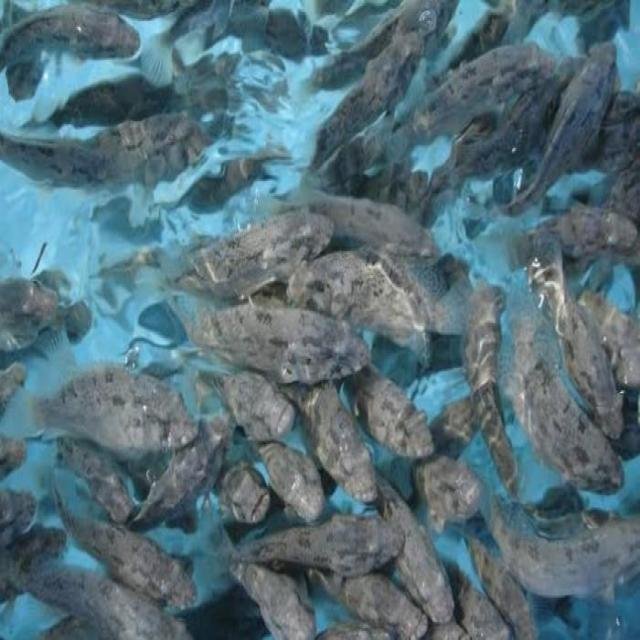grouper: (524, 239, 636, 444), (509, 306, 625, 497), (503, 36, 621, 220), (289, 240, 478, 346), (46, 483, 199, 613), (304, 26, 427, 172), (31, 360, 200, 461), (184, 296, 368, 384), (172, 207, 337, 297), (371, 459, 458, 625), (415, 40, 554, 128), (233, 514, 407, 576), (464, 282, 514, 493), (54, 423, 134, 527), (4, 6, 143, 62), (216, 363, 294, 444), (225, 462, 273, 532)
